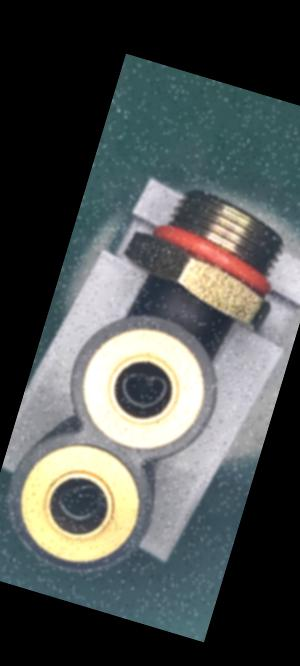joint line: (175, 291, 198, 326)
off-centered: (105, 356, 181, 419), (43, 469, 115, 533)
